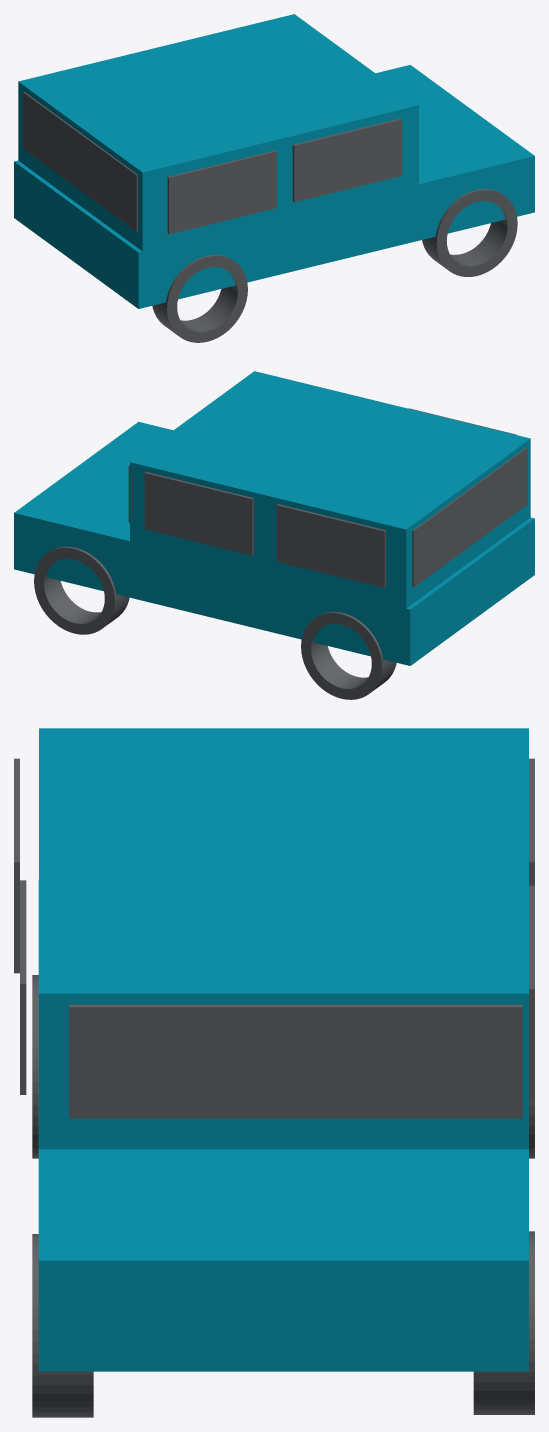
File: cocheAzulCubo.glb
3 renders of one model, top to bottom at view 1: azimuth 30°, elevation 25°; view 2: azimuth 150°, elevation 25°; view 3: azimuth 270°, elevation 25°, orthographic. The views are drawn at different scales.
Visible parts, largest first — view 1: Mesh_Mesh_head_geo.001_lambert2SG.001; view 2: Mesh_Mesh_head_geo.001_lambert2SG.001; view 3: Mesh_Mesh_head_geo.001_lambert2SG.001.
Part boxes in pixels (<box>): Mesh_Mesh_head_geo.001_lambert2SG.001: <box>14,14,534,342</box>; Mesh_Mesh_head_geo.001_lambert2SG.001: <box>14,371,534,699</box>; Mesh_Mesh_head_geo.001_lambert2SG.001: <box>14,728,534,1417</box>.
Bounding box in the file's own units: 0.147 × 0.065 × 0.085.
